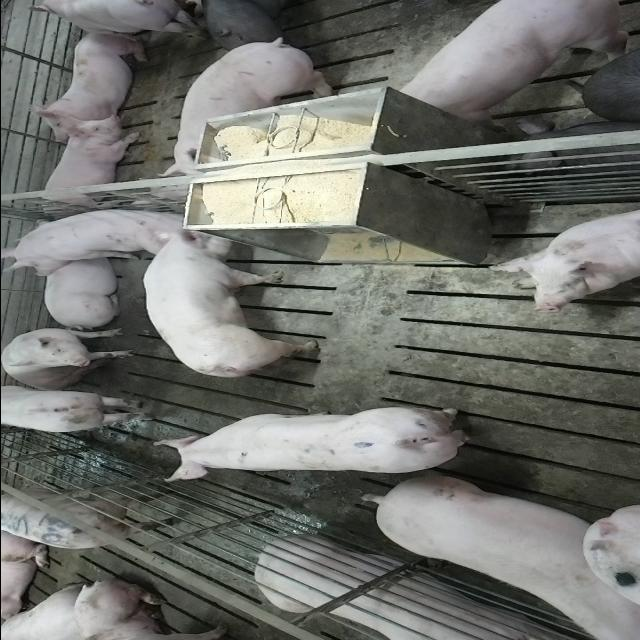Sitting: (0, 205, 186, 274), (0, 326, 134, 388)
Standing: (391, 2, 631, 124), (166, 32, 344, 178), (152, 406, 479, 482), (1, 482, 178, 552), (2, 385, 152, 435), (24, 1, 205, 34), (202, 0, 316, 46)
Sternal_lying: (249, 537, 579, 640), (484, 202, 640, 308), (20, 29, 146, 139), (31, 118, 140, 214), (36, 254, 124, 326)
